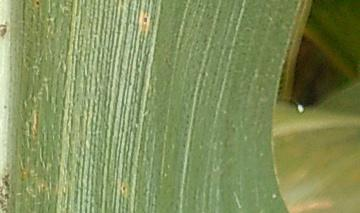tarspot: (1, 172, 12, 213), (1, 22, 9, 40), (141, 16, 149, 25), (121, 185, 127, 193), (2, 103, 8, 110), (35, 1, 40, 6)
